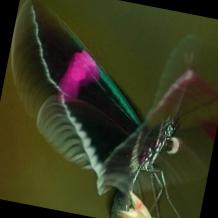butterfly: (32, 3, 194, 218)
